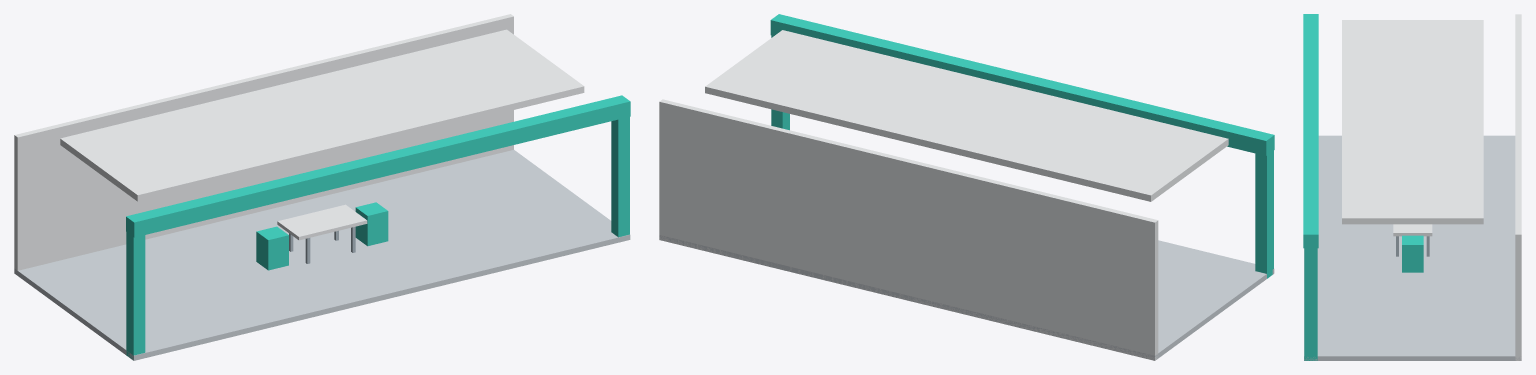
3 views of the same model, side by side, from view 1: azimuth 30°, elevation 25°; view 2: azimuth 150°, elevation 25°; view 3: azimuth 270°, elevation 25° (orthographic). The views are drawn at different scales.
Visible parts, largest first — view 1: Exhibition Booth Concept; view 2: Exhibition Booth Concept; view 3: Exhibition Booth Concept.
Part boxes in pixels (<box>): Exhibition Booth Concept: <box>14,14,630,360</box>; Exhibition Booth Concept: <box>659,14,1274,360</box>; Exhibition Booth Concept: <box>1303,14,1521,360</box>.
Size of the model in its own units: 12 by 3.34 by 5.02.
